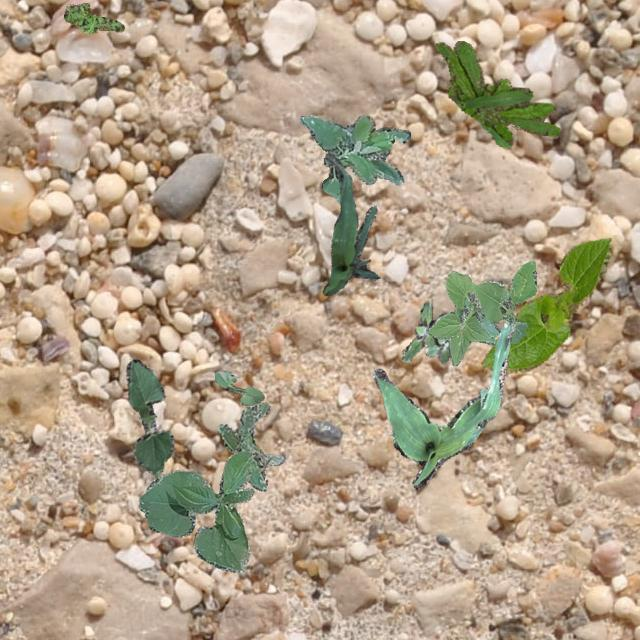crop: (372, 320, 514, 488), (480, 236, 612, 372), (138, 451, 254, 572), (322, 152, 378, 294), (125, 358, 173, 473), (214, 371, 264, 404)
weed: (434, 40, 558, 146), (424, 260, 536, 366), (300, 114, 410, 204), (216, 400, 284, 490), (399, 302, 448, 364), (63, 1, 124, 32)
